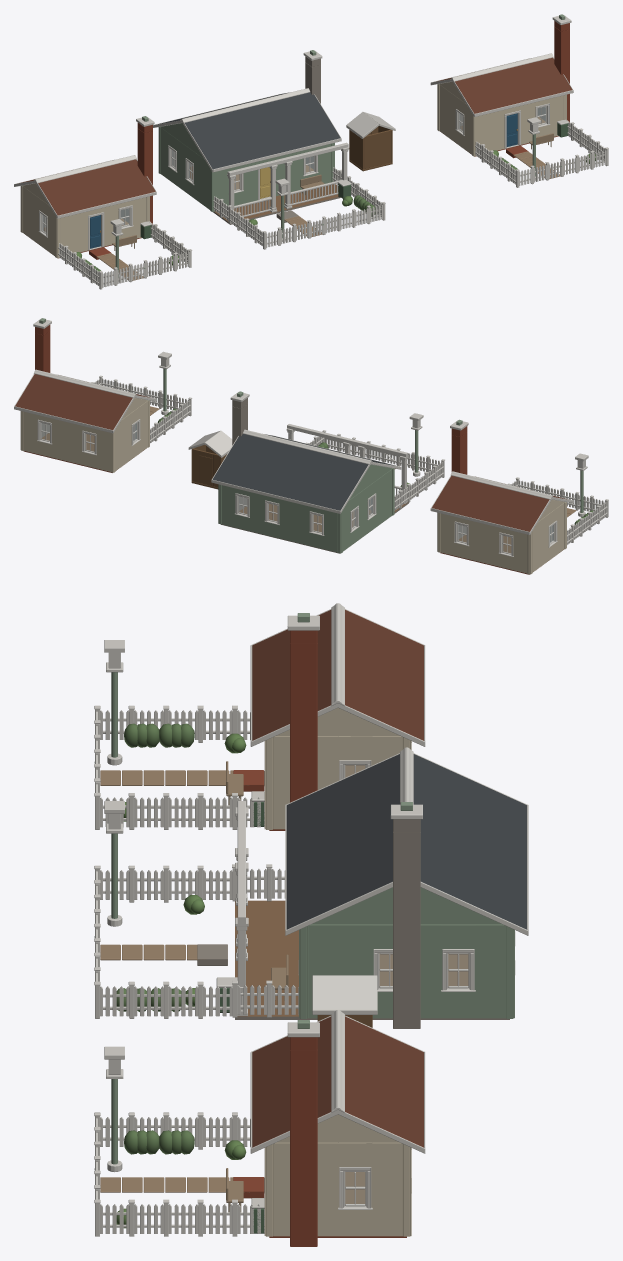
The model's file is Demo_Street.glb.
The picture shows the model from 3 angles, top to bottom: view 1: azimuth 30°, elevation 25°; view 2: azimuth 150°, elevation 25°; view 3: azimuth 270°, elevation 25°; orthographic projection. The views are drawn at different scales.
Parts seen in each view (by area): view 1: SM_Kit_Prop_GardenShed__b0439, SM_Kit_Chimney__b0565, SM_Kit_Chimney__b0119, SM_Kit_Chimney__b0393, SM_Kit_Wall__b0457, SM_Kit_Wall__b0011, SM_Kit_Wall__b0184, SM_Kit_Wall__b0014, SM_Kit_Wall__b0460, SM_Kit_Wall__b0017, SM_Kit_Wall__b0188, SM_Kit_Wall__b0003 (+15 smaller); view 2: SM_Kit_Prop_GardenShed__b0439, SM_Kit_Chimney__b0119, SM_Kit_Chimney__b0565, SM_Kit_Chimney__b0393, SM_Kit_Wall__b0195, SM_Kit_Wall__b0467, SM_Kit_Wall__b0196, SM_Kit_Wall__b0468, SM_Kit_Wall__b0021, SM_Kit_Wall__b0199, SM_Kit_Wall__b0022, SM_Kit_Wall__b0202 (+29 smaller); view 3: SM_Kit_Chimney__b0393, SM_Kit_Chimney__b0565, SM_Kit_Chimney__b0119, SM_Kit_Wall__b0180, SM_Kit_Wall__b0455, SM_Kit_Prop_GardenShed__b0439, SM_Kit_Wall_Window__b0178, SM_Kit_Wall_Window__b0453, SM_Kit_Wall__b0177, SM_Kit_Wall__b0452, SM_Kit_Wall__b0173, SM_Kit_Wall__b0174 (+13 smaller).
Part boxes in pixels (left/top/right/bottom): SM_Kit_Prop_GardenShed__b0439: left=346, top=112, right=395, bottom=171; SM_Kit_Chimney__b0565: left=552, top=14, right=571, bottom=122; SM_Kit_Chimney__b0119: left=136, top=116, right=154, bottom=224; SM_Kit_Chimney__b0393: left=303, top=50, right=322, bottom=103; SM_Kit_Wall__b0457: left=490, top=110, right=505, bottom=150; SM_Kit_Wall__b0011: left=73, top=211, right=88, bottom=252; SM_Kit_Wall__b0184: left=243, top=161, right=258, bottom=203; SM_Kit_Wall__b0014: left=103, top=204, right=118, bottom=246; SM_Kit_Wall__b0460: left=520, top=102, right=534, bottom=144; SM_Kit_Wall__b0017: left=133, top=197, right=146, bottom=238; SM_Kit_Wall__b0188: left=288, top=150, right=303, bottom=191; SM_Kit_Wall__b0003: left=30, top=192, right=39, bottom=244; SM_Kit_Prop_GardenShed__b0439: left=188, top=430, right=232, bottom=489; SM_Kit_Chimney__b0119: left=450, top=419, right=468, bottom=474; SM_Kit_Chimney__b0565: left=33, top=318, right=51, bottom=372; SM_Kit_Chimney__b0393: left=230, top=391, right=249, bottom=445; SM_Kit_Wall__b0195: left=294, top=503, right=309, bottom=545; SM_Kit_Wall__b0467: left=67, top=422, right=82, bottom=464; SM_Kit_Wall__b0196: left=279, top=499, right=294, bottom=541; SM_Kit_Wall__b0468: left=52, top=418, right=67, bottom=461; SM_Kit_Wall__b0021: left=484, top=524, right=498, bottom=566; SM_Kit_Wall__b0199: left=250, top=492, right=264, bottom=534; SM_Kit_Wall__b0022: left=469, top=520, right=483, bottom=562; SM_Kit_Wall__b0202: left=221, top=485, right=234, bottom=527; SM_Kit_Chimney__b0393: left=390, top=802, right=422, bottom=1028; SM_Kit_Chimney__b0565: left=287, top=1020, right=319, bottom=1246; SM_Kit_Chimney__b0119: left=287, top=613, right=319, bottom=802; SM_Kit_Wall__b0180: left=475, top=924, right=506, bottom=1018; SM_Kit_Wall__b0455: left=372, top=1142, right=403, bottom=1236; SM_Kit_Prop_GardenShed__b0439: left=312, top=975, right=377, bottom=1027; SM_Kit_Wall_Window__b0178: left=441, top=924, right=475, bottom=1018; SM_Kit_Wall_Window__b0453: left=338, top=1142, right=372, bottom=1236; SM_Kit_Wall__b0177: left=420, top=924, right=441, bottom=1018; SM_Kit_Wall__b0452: left=317, top=1142, right=337, bottom=1236; SM_Kit_Wall__b0173: left=307, top=924, right=337, bottom=1018; SM_Kit_Wall__b0174: left=338, top=924, right=372, bottom=975.
Bounding box in the file's own units: 35.18 × 7.3 × 12.63.
